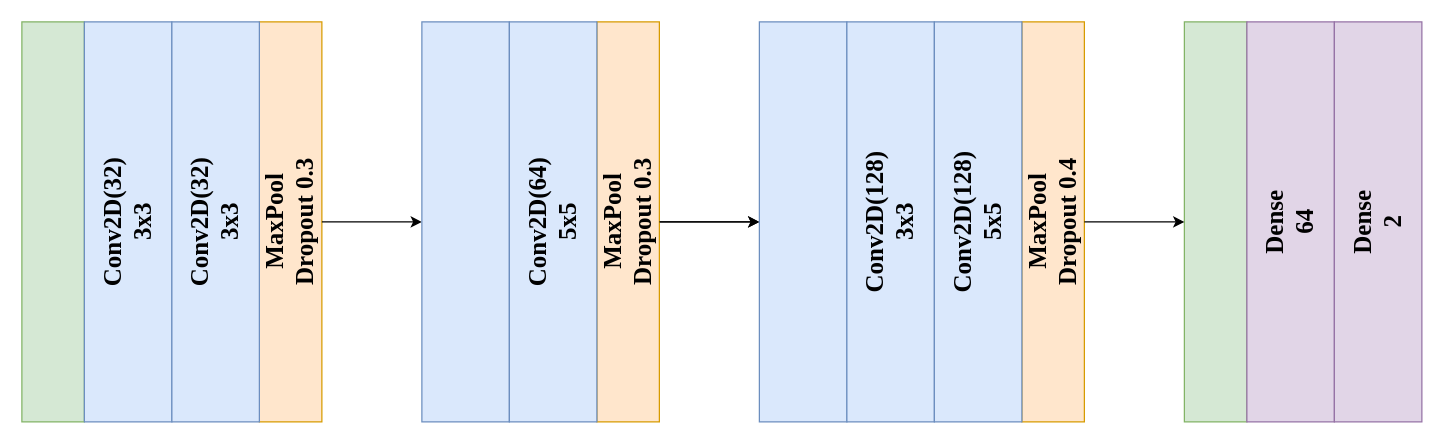
Some shapes in this 1444 by 443 pixel diagram are drawn without their labels. The centre of each missing label's shape, as x and y in pixels:
"Conv2D(128) 1x1" belongs at (x=802, y=221).
"Conv2D(32) 5x5" belongs at (x=465, y=221).
"Global Average Pooling" belongs at (x=1215, y=221).
"Input 256x256x3" belongs at (x=52, y=221).
